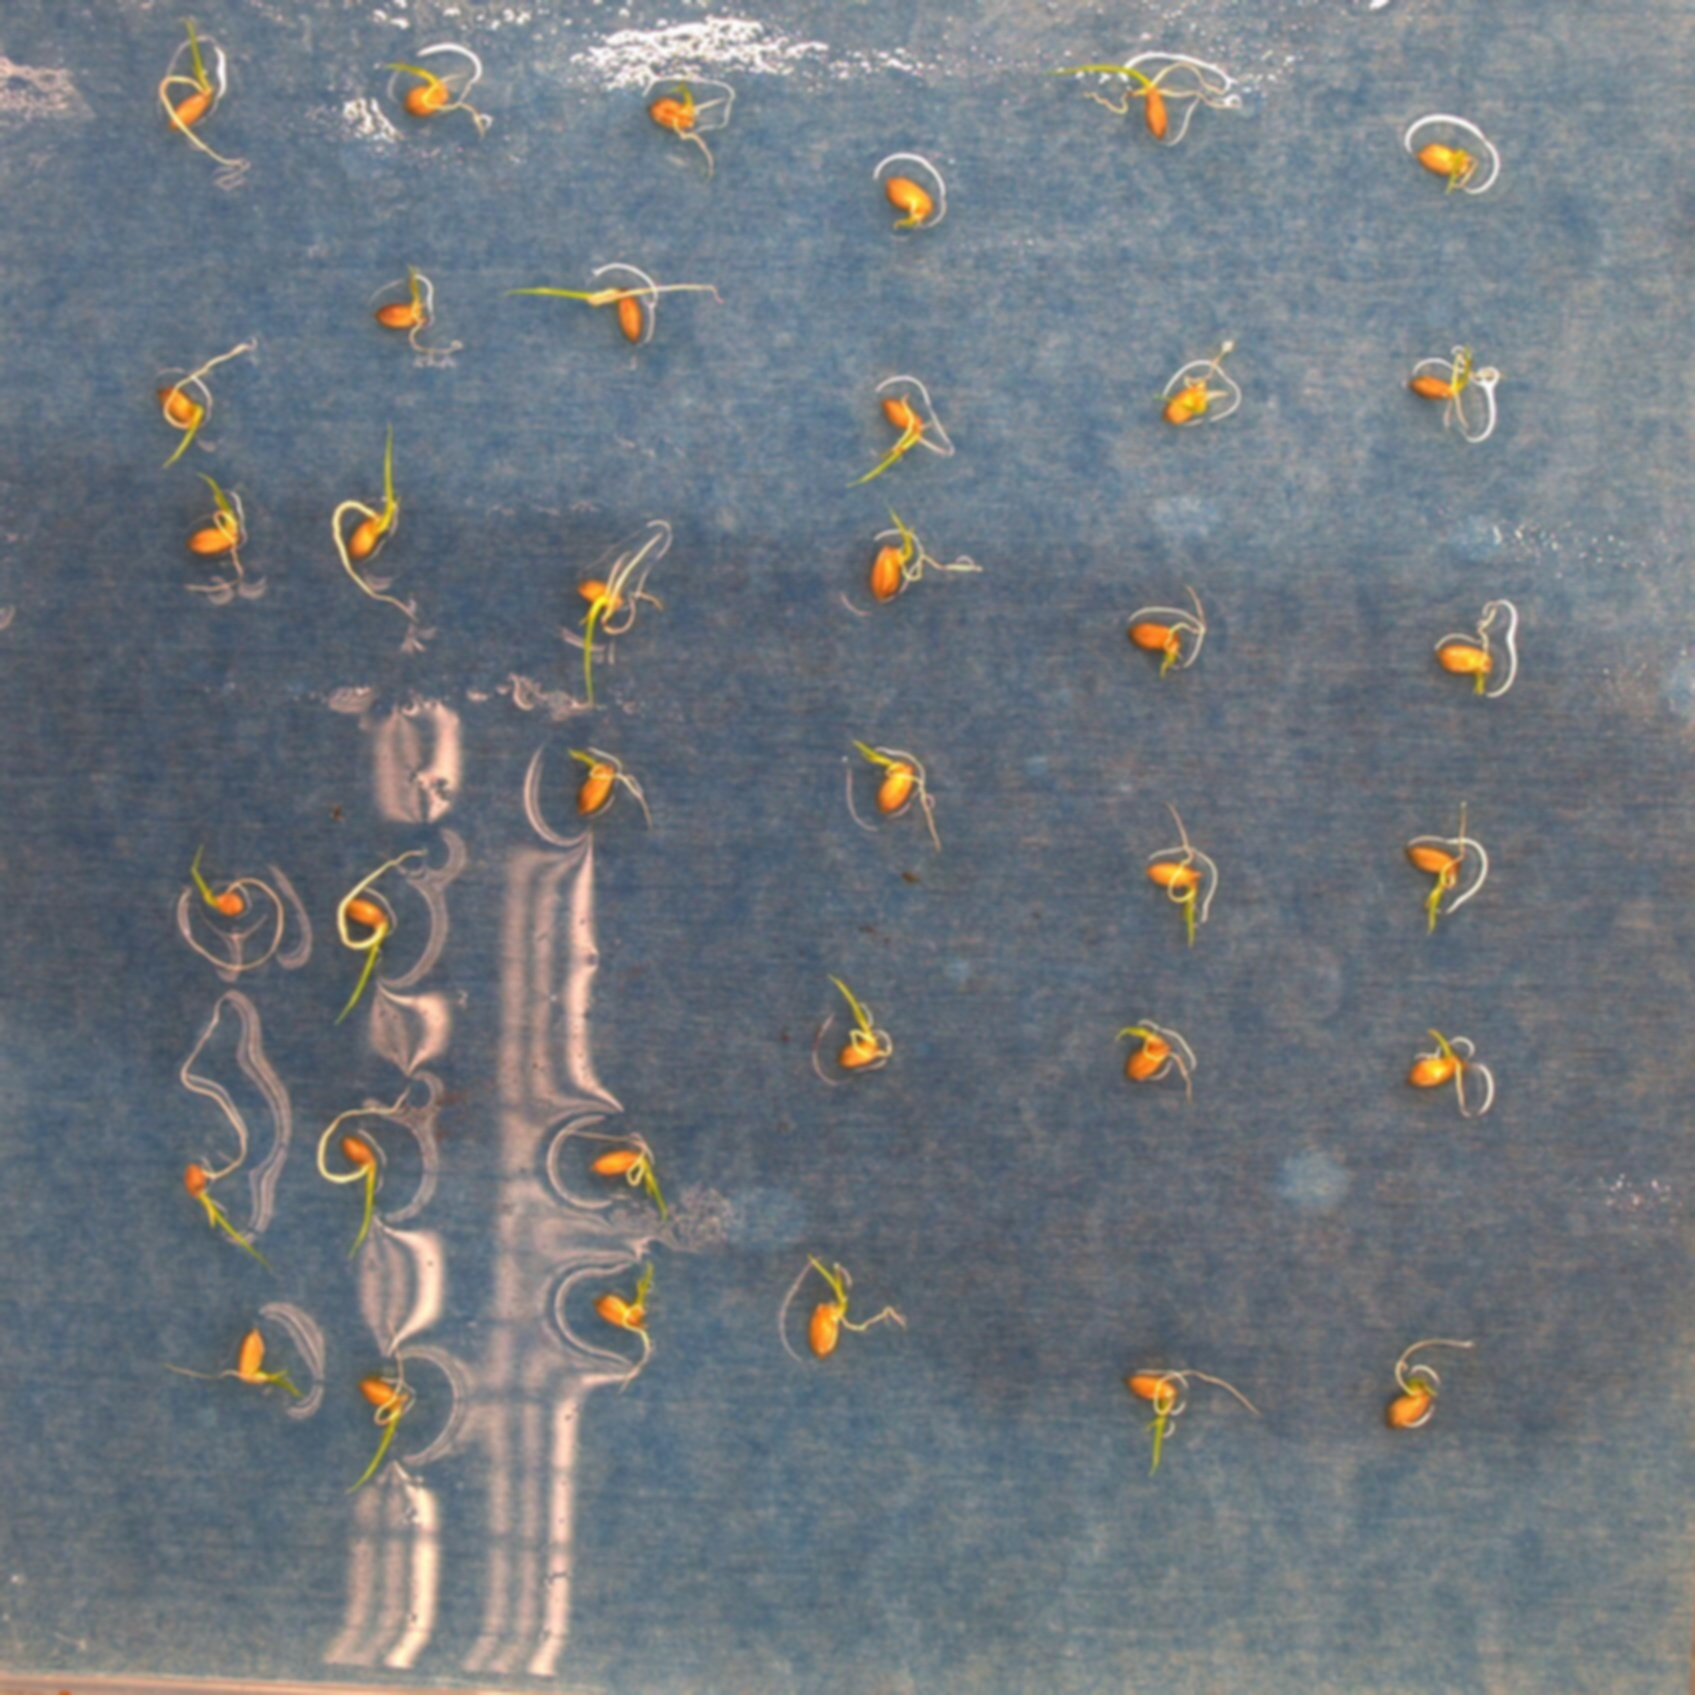not sprout: (1433, 594, 1518, 703), (366, 264, 456, 366), (1158, 337, 1242, 438), (1411, 129, 1485, 200), (875, 168, 947, 236)
sprout: (326, 829, 438, 1032), (149, 837, 306, 978), (324, 413, 425, 627), (309, 1076, 421, 1263), (509, 258, 736, 349), (1121, 1357, 1267, 1481), (161, 3, 258, 189), (557, 539, 661, 711), (1124, 782, 1225, 951), (348, 1312, 433, 1503), (154, 328, 261, 473), (574, 1121, 697, 1248), (175, 1136, 278, 1288), (846, 730, 947, 860), (1083, 56, 1243, 137), (861, 508, 976, 618), (781, 1256, 905, 1357), (349, 9, 480, 102), (587, 1262, 674, 1400), (1400, 799, 1482, 945), (636, 26, 747, 130), (1388, 354, 1504, 452), (1381, 1327, 1475, 1445), (183, 467, 259, 612), (799, 969, 889, 1090), (1124, 563, 1220, 667), (871, 369, 951, 483), (165, 1322, 303, 1386), (1116, 1018, 1198, 1121), (1405, 1029, 1496, 1108), (556, 739, 638, 826)
